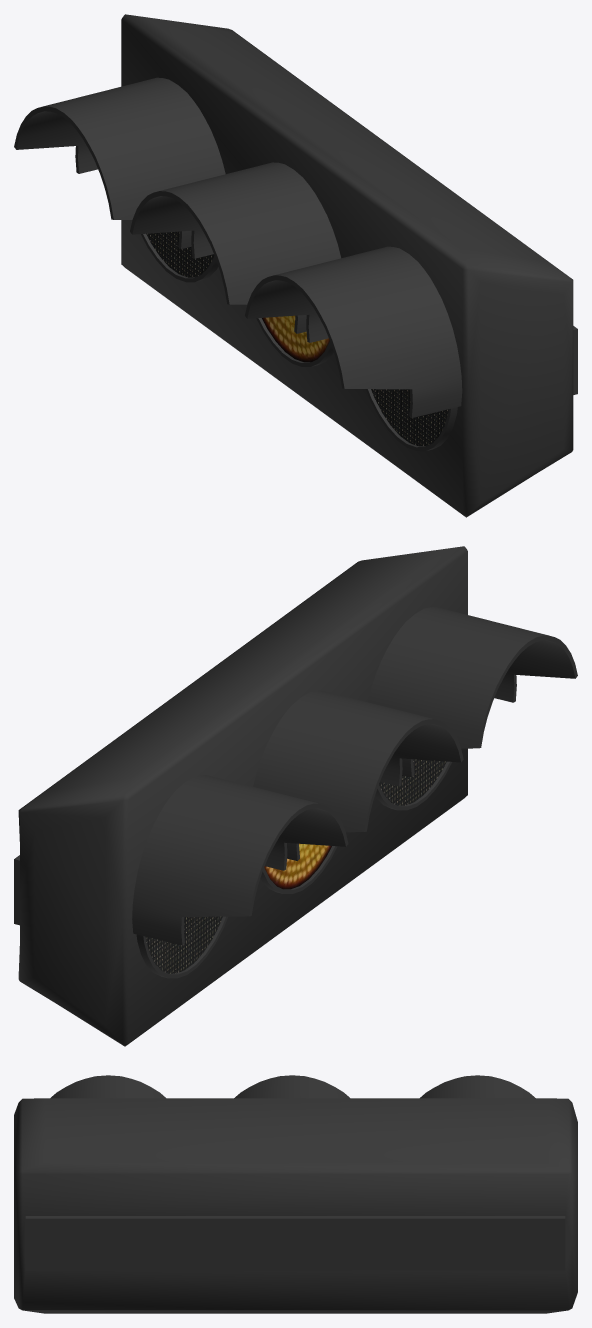
File: 横排全方位灯_YellowLight.fbx
3 views of the same model, one above another, from view 1: azimuth 30°, elevation 25°; view 2: azimuth 150°, elevation 25°; view 3: azimuth 270°, elevation 25° (orthographic). The views are drawn at different scales.
Visible parts, largest first — view 1: 横排全方位灯_YellowLight; view 2: 横排全方位灯_YellowLight; view 3: 横排全方位灯_YellowLight.
Boxes of the visible parts, bbox=[...] form: 横排全方位灯_YellowLight: bbox=[14, 14, 577, 517]; 横排全方位灯_YellowLight: bbox=[14, 546, 577, 1046]; 横排全方位灯_YellowLight: bbox=[14, 1075, 577, 1313].
Size of the model in its own units: 0.6 by 0.65 by 1.58.
Materials: 3 (2 with a texture image).
